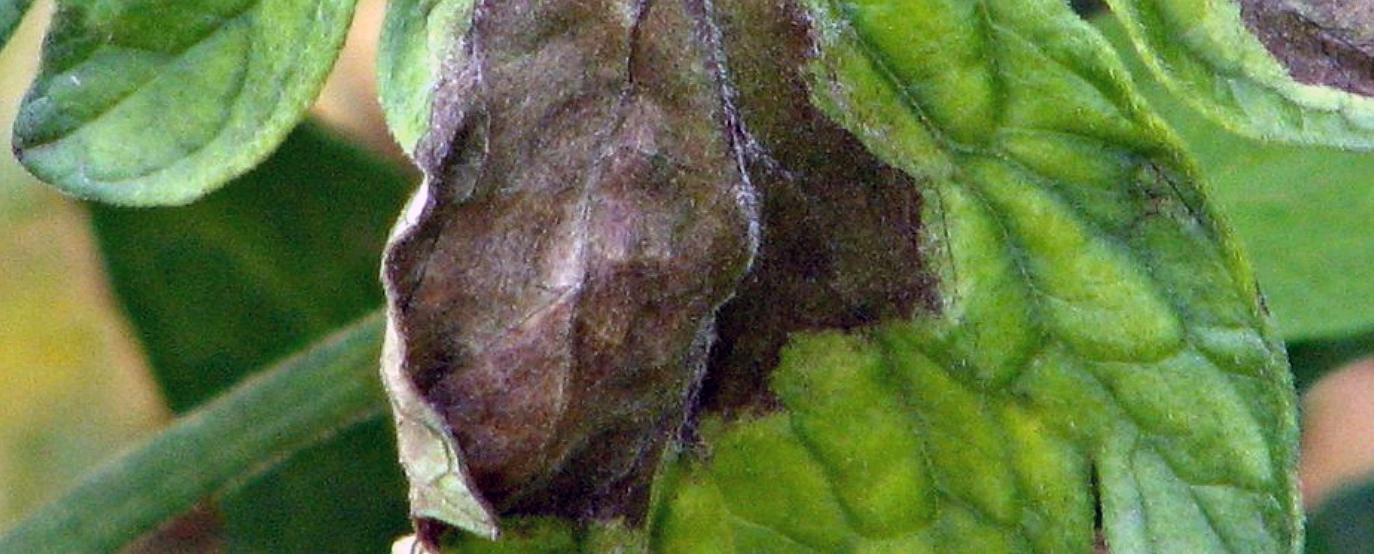Tomato leaf late blight: (63, 0, 1374, 554)
